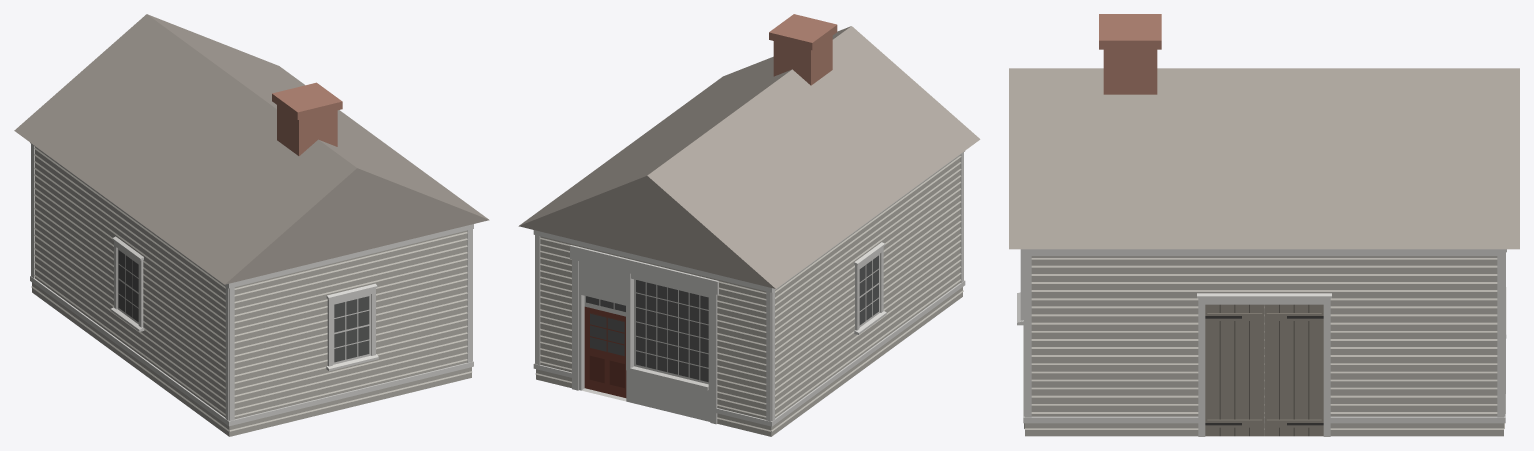
File: recon_1835_blk_south_water_dearborn_c1_08__inferred_1835.glb
3 views of the same model, side by side, from view 1: azimuth 30°, elevation 25°; view 2: azimuth 150°, elevation 25°; view 3: azimuth 270°, elevation 25° (orthographic). The views are drawn at different scales.
Parts seen in each view (by area): view 1: recon_1835_blk_south_water_dearborn_c1_08__inferred_1835; view 2: recon_1835_blk_south_water_dearborn_c1_08__inferred_1835; view 3: recon_1835_blk_south_water_dearborn_c1_08__inferred_1835.
Boxes of the visible parts, x1,y1,x2,y2 form: recon_1835_blk_south_water_dearborn_c1_08__inferred_1835: (14,14,489,436); recon_1835_blk_south_water_dearborn_c1_08__inferred_1835: (518,14,980,436); recon_1835_blk_south_water_dearborn_c1_08__inferred_1835: (1009,14,1519,436).
Bounding box in the file's own units: 5.8 × 5.82 × 7.98.
